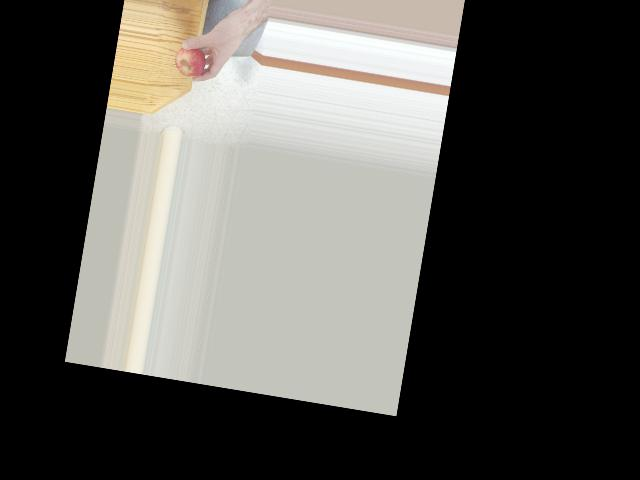apple: (171, 40, 210, 80)
